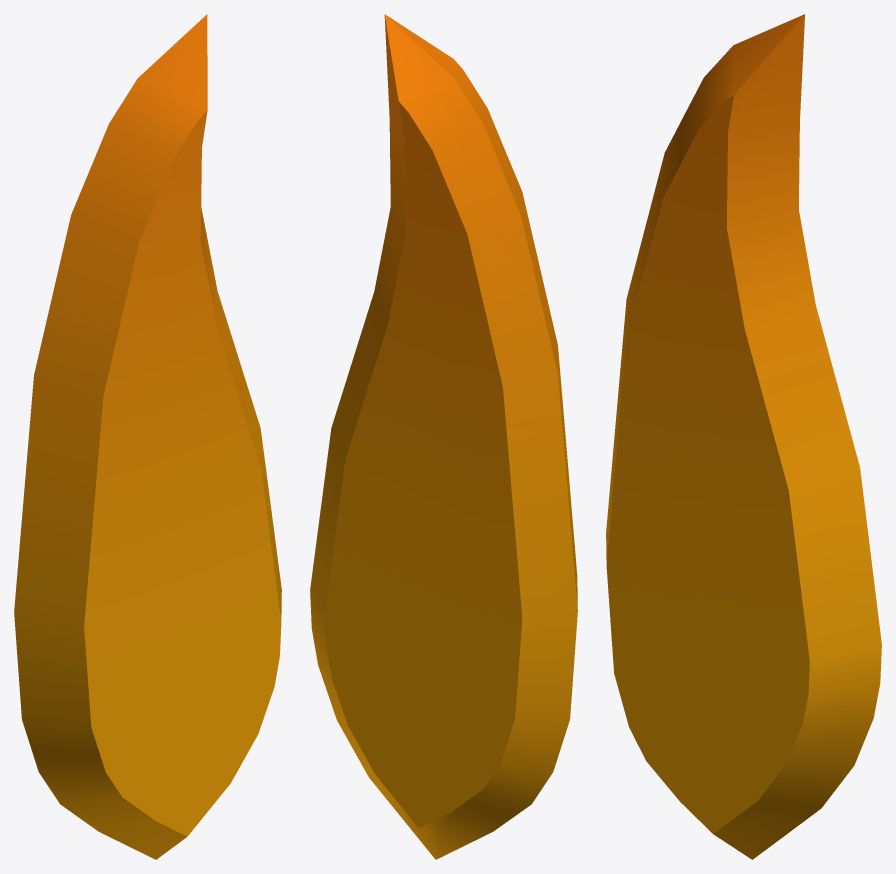
The model's file is FlameShape04.fbx.
3 views of the same model, side by side, from view 1: azimuth 30°, elevation 25°; view 2: azimuth 150°, elevation 25°; view 3: azimuth 330°, elevation 25° (orthographic). The views are drawn at different scales.
Visible parts, largest first — view 1: FlameShape04; view 2: FlameShape04; view 3: FlameShape04.
Part boxes in pixels (<box>): FlameShape04: <box>14,14,281,859</box>; FlameShape04: <box>310,14,577,859</box>; FlameShape04: <box>606,14,881,859</box>.
Size of the model in its own units: 31.18 by 92.75 by 11.09.
1 material, 1 textured.
